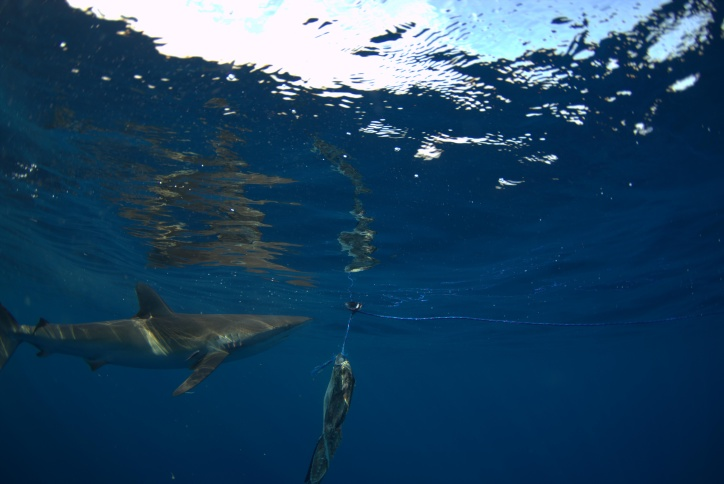Sedoso: (1, 277, 330, 410)
